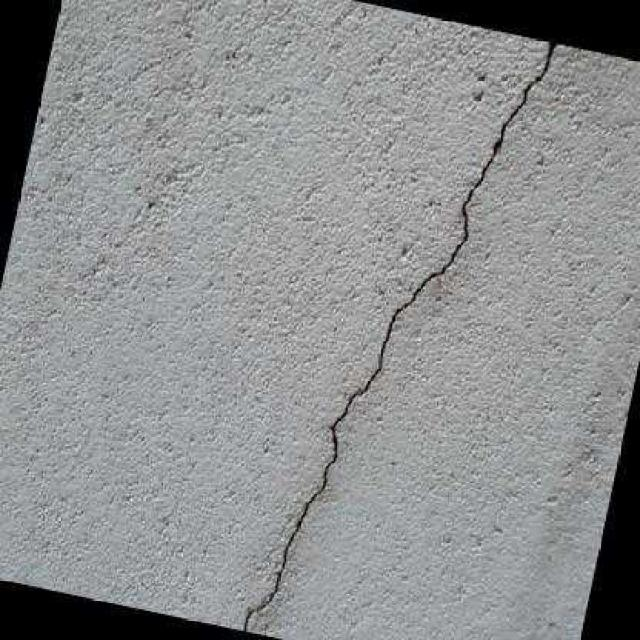D00: (239, 41, 560, 632)
